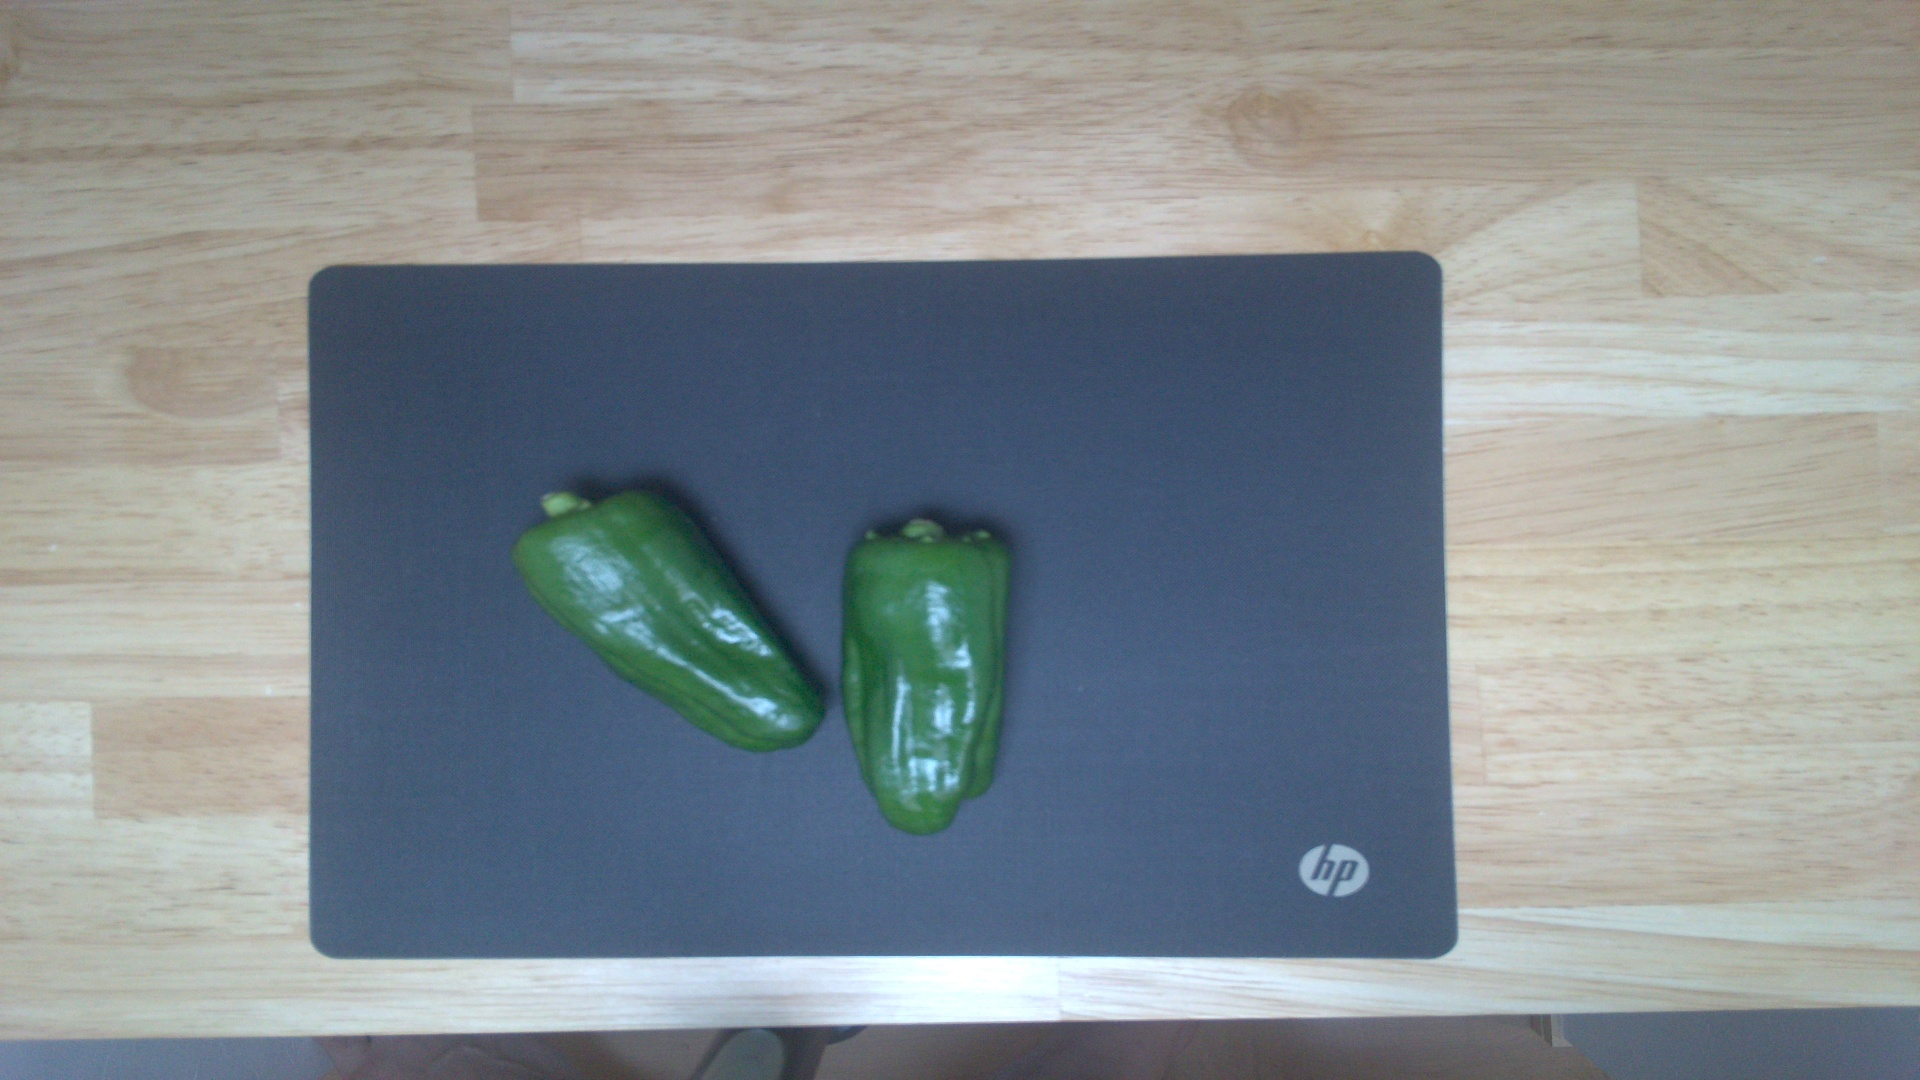Piman: (506, 483, 825, 754), (836, 512, 1019, 843)
